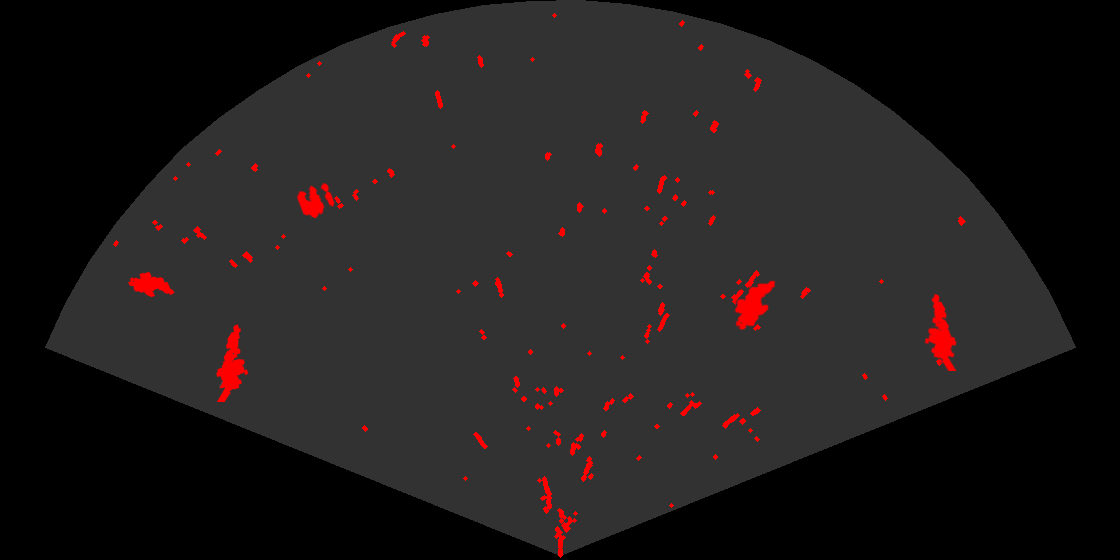AUV: (733, 279, 777, 332), (127, 270, 176, 299)
ball: (295, 181, 336, 220)
frogman: (923, 292, 958, 371), (215, 323, 250, 402)
